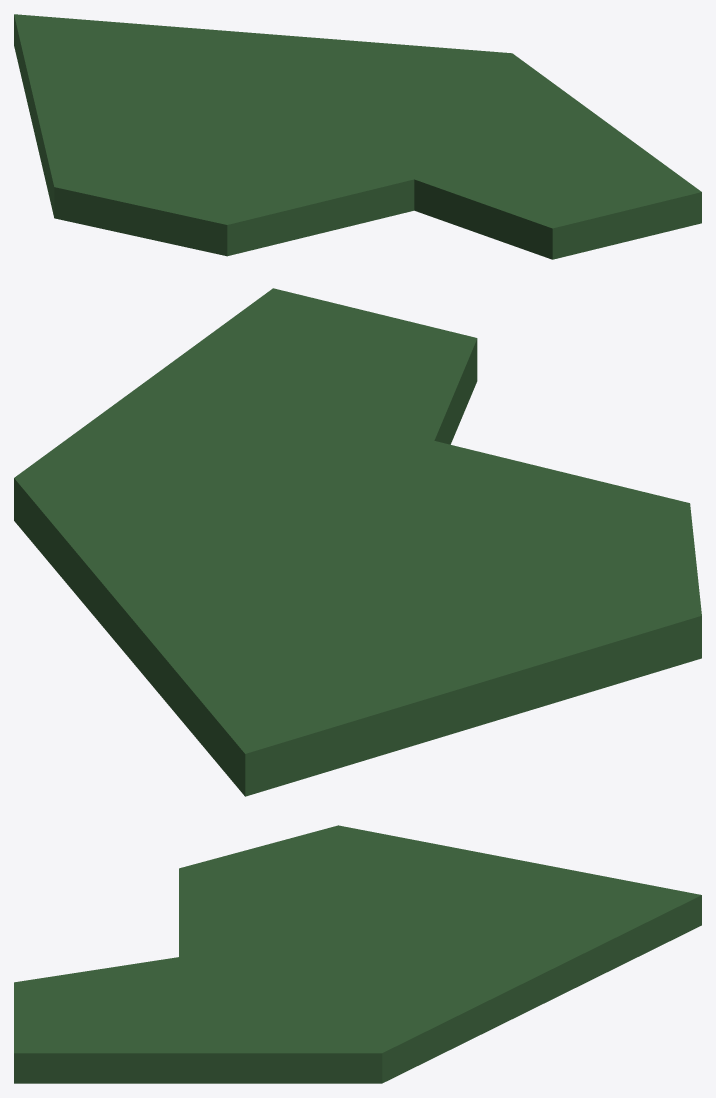
File: x_proval_00_102_1_rmstrd.fbx
3 renders of one model, top to bottom at view 1: azimuth 30°, elevation 25°; view 2: azimuth 150°, elevation 25°; view 3: azimuth 270°, elevation 25°, orthographic. The views are drawn at different scales.
Visible parts, largest first — view 1: x_proval_00_102_1_rmstrd1; view 2: x_proval_00_102_1_rmstrd1; view 3: x_proval_00_102_1_rmstrd1.
Boxes of the visible parts, x1,y1,x2,y2 form: x_proval_00_102_1_rmstrd1: (14,14,701,259); x_proval_00_102_1_rmstrd1: (14,288,701,796); x_proval_00_102_1_rmstrd1: (14,825,701,1083).
Bounding box in the file's own units: 3.22 × 0.2 × 4.1.
